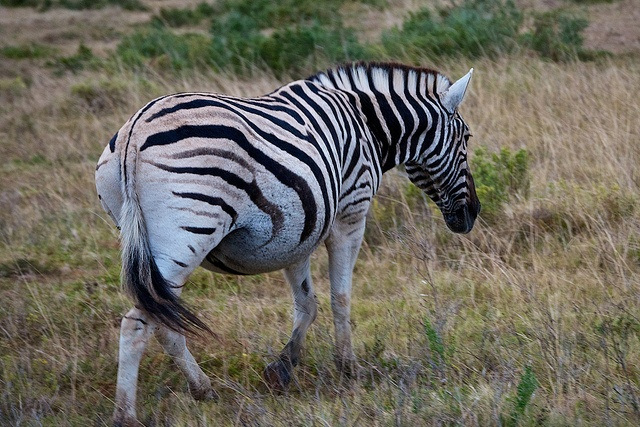zebra: (92, 61, 484, 427)
